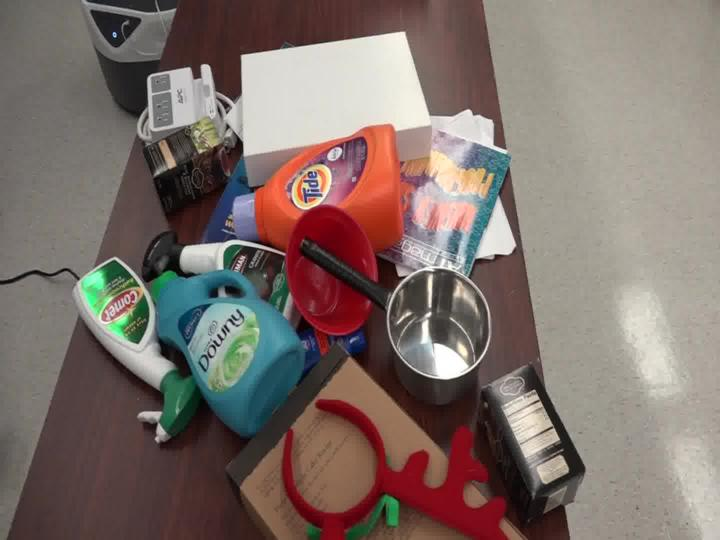tide: (215, 110, 417, 270)
